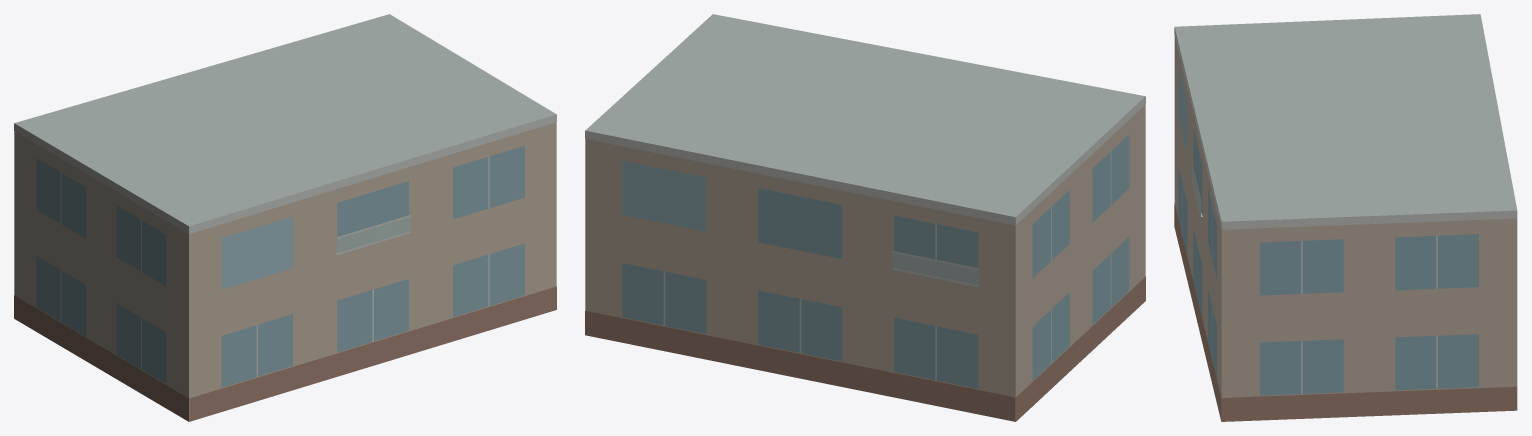
Rendered from survey-upis-32871443.glb.
3 views of the same model, side by side, from view 1: azimuth 30°, elevation 25°; view 2: azimuth 150°, elevation 25°; view 3: azimuth 270°, elevation 25° (orthographic). The views are drawn at different scales.
Visible parts, largest first — view 1: survey-upis-32871443.tmp; view 2: survey-upis-32871443.tmp; view 3: survey-upis-32871443.tmp.
Part boxes in pixels (bbox=[...]): survey-upis-32871443.tmp: bbox=[14, 14, 556, 421]; survey-upis-32871443.tmp: bbox=[585, 14, 1145, 421]; survey-upis-32871443.tmp: bbox=[1174, 14, 1517, 421].
Bounding box in the file's own units: 13.6 × 6.1 × 9.48.
